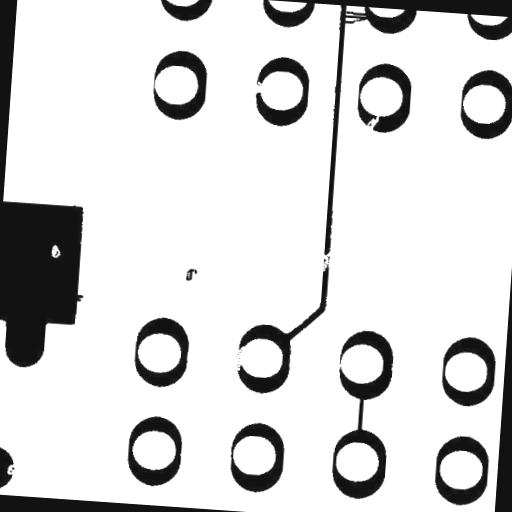copper: (178, 260, 205, 289)
mousebite: (0, 454, 24, 483)
open: (224, 336, 252, 379), (358, 106, 388, 144), (312, 242, 340, 280), (244, 72, 270, 103)
pin-hole: (43, 236, 69, 266)
short: (348, 388, 372, 445), (332, 5, 380, 33)
spur: (63, 286, 91, 309)
